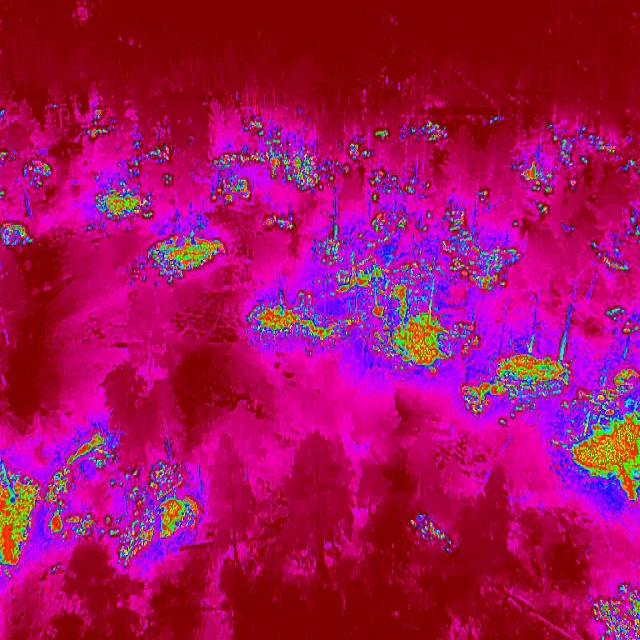fire: (40, 432, 154, 566), (208, 119, 338, 229), (316, 211, 440, 310), (557, 367, 640, 502), (461, 336, 573, 426), (370, 290, 480, 378), (440, 187, 522, 295), (245, 290, 368, 350), (0, 458, 40, 580), (146, 229, 227, 286), (558, 125, 640, 174), (92, 179, 152, 233), (370, 118, 460, 152), (591, 580, 640, 640), (0, 144, 54, 198), (154, 493, 206, 545), (519, 157, 561, 216), (368, 165, 431, 204), (406, 510, 458, 555), (126, 138, 174, 186), (586, 234, 629, 277), (151, 460, 203, 494), (605, 299, 640, 340), (340, 136, 375, 176), (0, 218, 37, 254), (81, 107, 118, 139)
